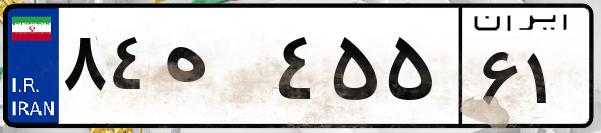1: (525, 38, 570, 115)
4: (270, 28, 330, 110), (110, 28, 158, 98)
5: (385, 28, 445, 110), (330, 28, 385, 110)
6: (475, 38, 525, 113)
8: (57, 26, 110, 100)
ه: (158, 20, 270, 120)
